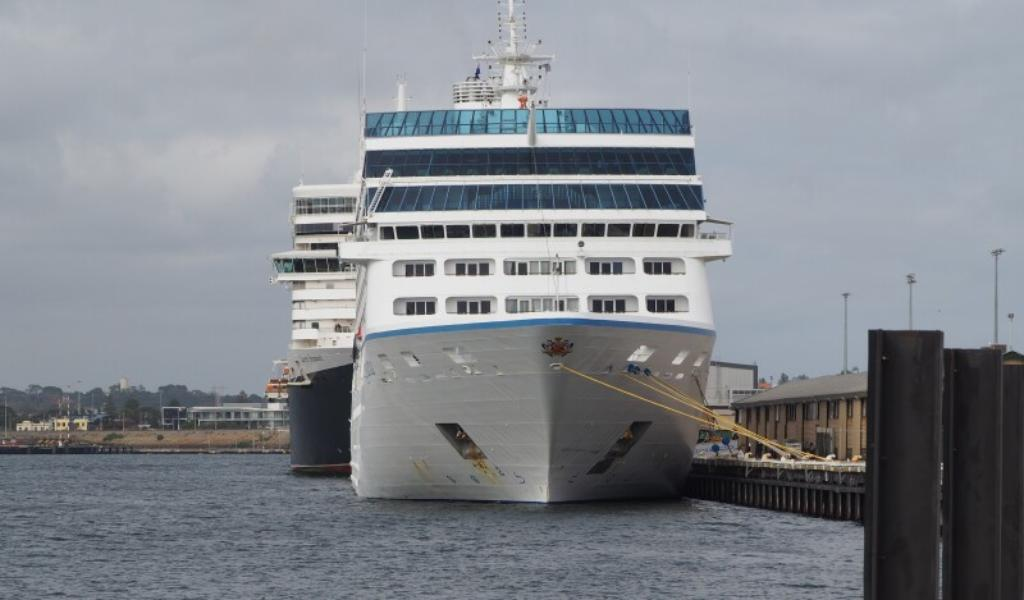PassengerShip: (350, 0, 732, 503), (271, 172, 349, 474)
